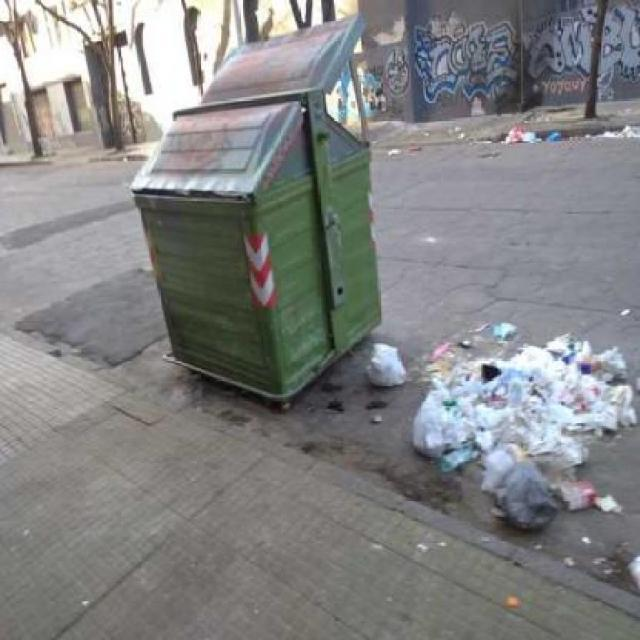garbage: (348, 314, 638, 531), (507, 104, 640, 156)
